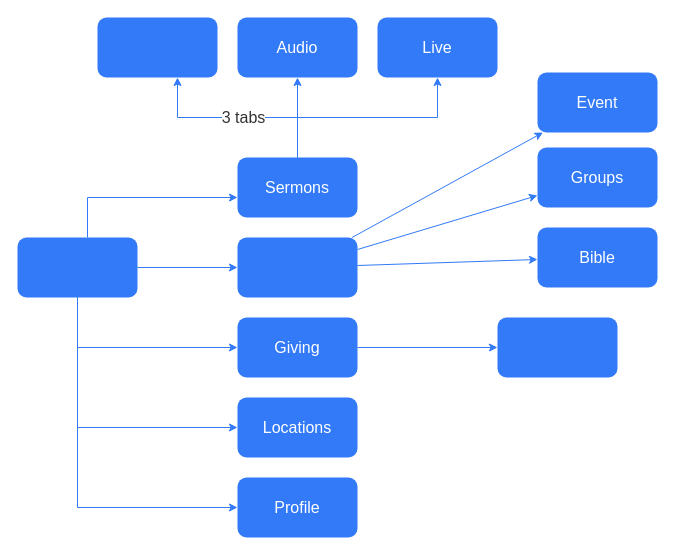
This 674x554 diagram has some shape labels left out. The centre of each missing label's shape, as x and y in pixels:
Discover: [297,267]
Giving page: [557,347]
Main Screen: [77,267]
Video: [157,47]
